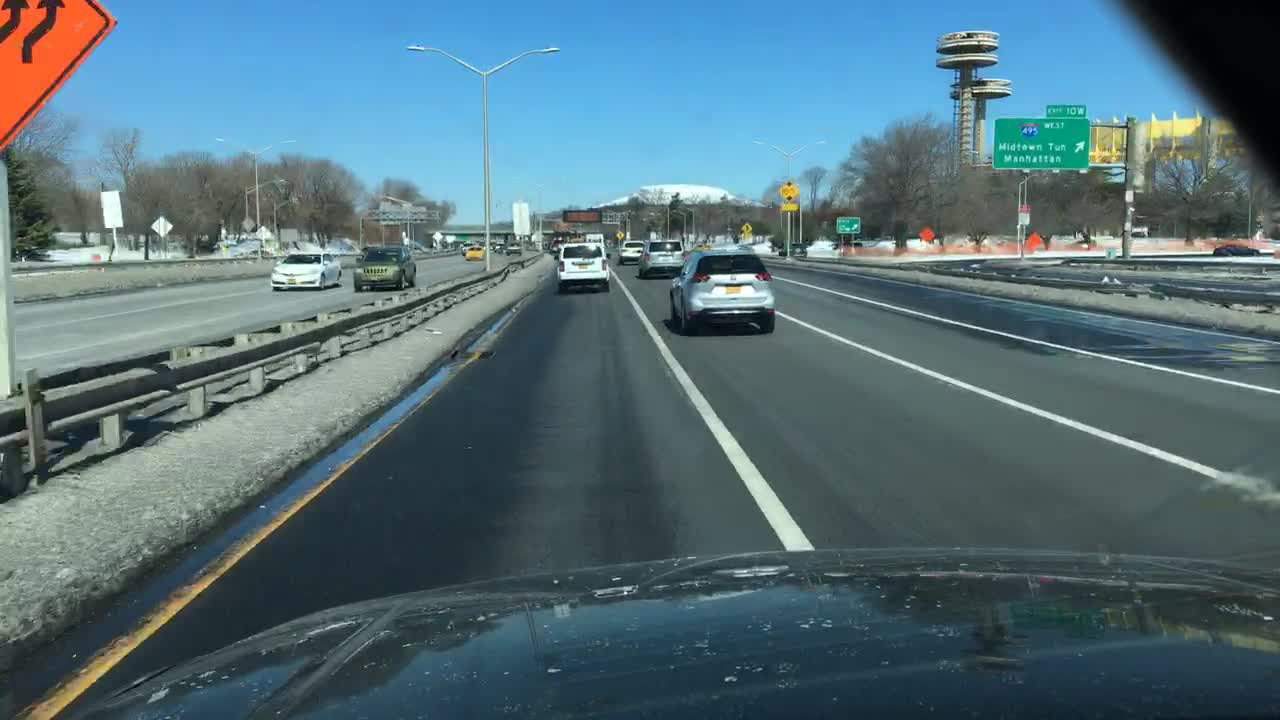car: (669, 246, 781, 335), (352, 242, 418, 291), (554, 240, 613, 290), (271, 251, 341, 290), (640, 235, 680, 273), (1210, 240, 1261, 259), (619, 240, 648, 261), (777, 243, 804, 260), (586, 231, 604, 249), (503, 239, 521, 256), (463, 247, 485, 260), (459, 239, 472, 251)
traffic sign: (0, 0, 116, 149), (995, 116, 1089, 170), (99, 187, 126, 231), (1046, 104, 1087, 120), (836, 214, 863, 235), (151, 216, 174, 237), (277, 226, 301, 242), (1019, 203, 1033, 226), (253, 227, 273, 242), (917, 226, 934, 241), (781, 201, 800, 213), (781, 186, 799, 198), (742, 222, 754, 237), (240, 217, 253, 229), (615, 230, 628, 241), (431, 230, 440, 241), (446, 233, 454, 245)
